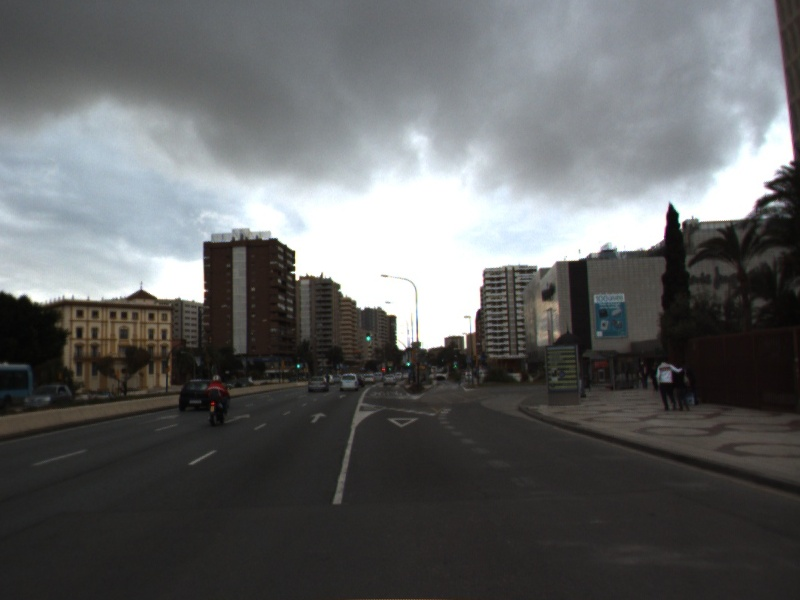STRAIGHT: (308, 410, 329, 425), (224, 412, 252, 423)
